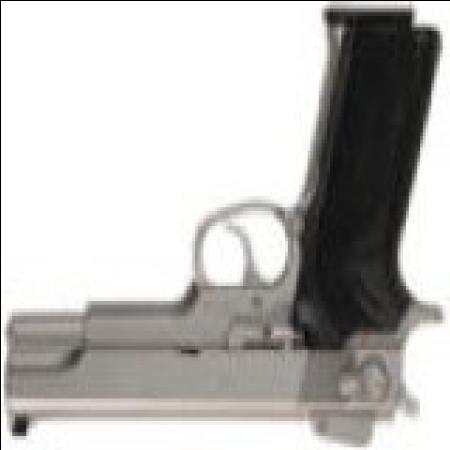Pistol: (3, 12, 441, 442)
